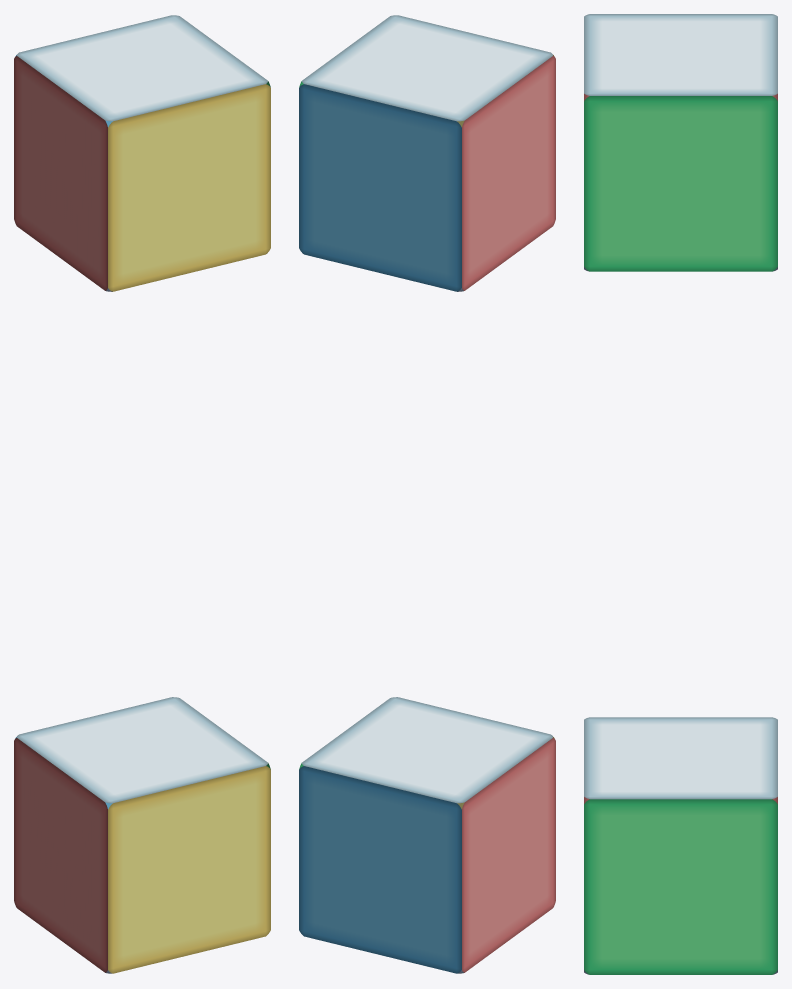
Rendered from generic.obj.
3 renders of one model, left to right at view 1: azimuth 30°, elevation 25°; view 2: azimuth 150°, elevation 25°; view 3: azimuth 270°, elevation 25°, orthographic. The views are drawn at different scales.
Visible parts, largest first — view 1: mesh; view 2: mesh; view 3: mesh.
Part boxes in pixels (bbox=[...]): mesh: bbox=[14, 15, 270, 973]; mesh: bbox=[299, 15, 555, 973]; mesh: bbox=[584, 14, 777, 974].
Size of the model in its own units: 1 by 5 by 1.
Materials: 1 (1 with a texture image).
